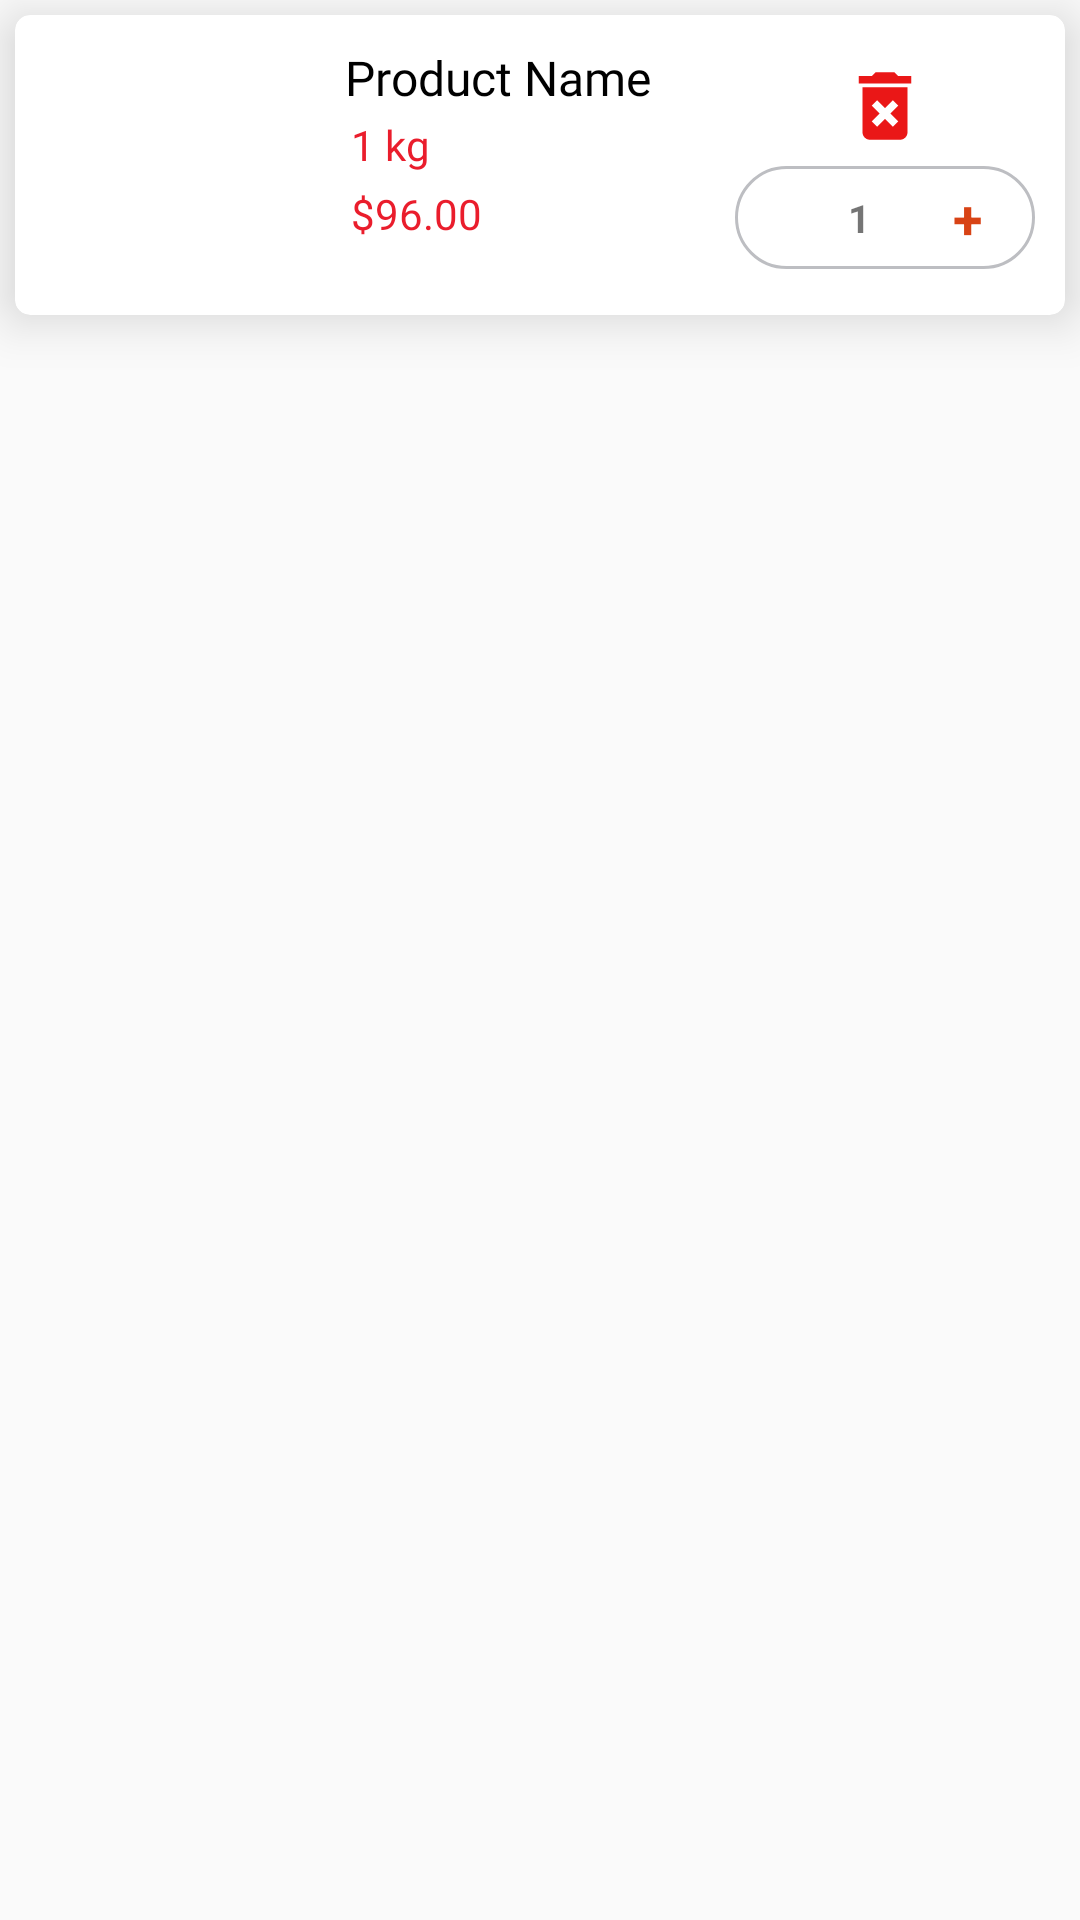

Point at icon controls on the screen. Image size 1080px x 1920px, points as point (x, y).
delete cart: point (885, 106)
